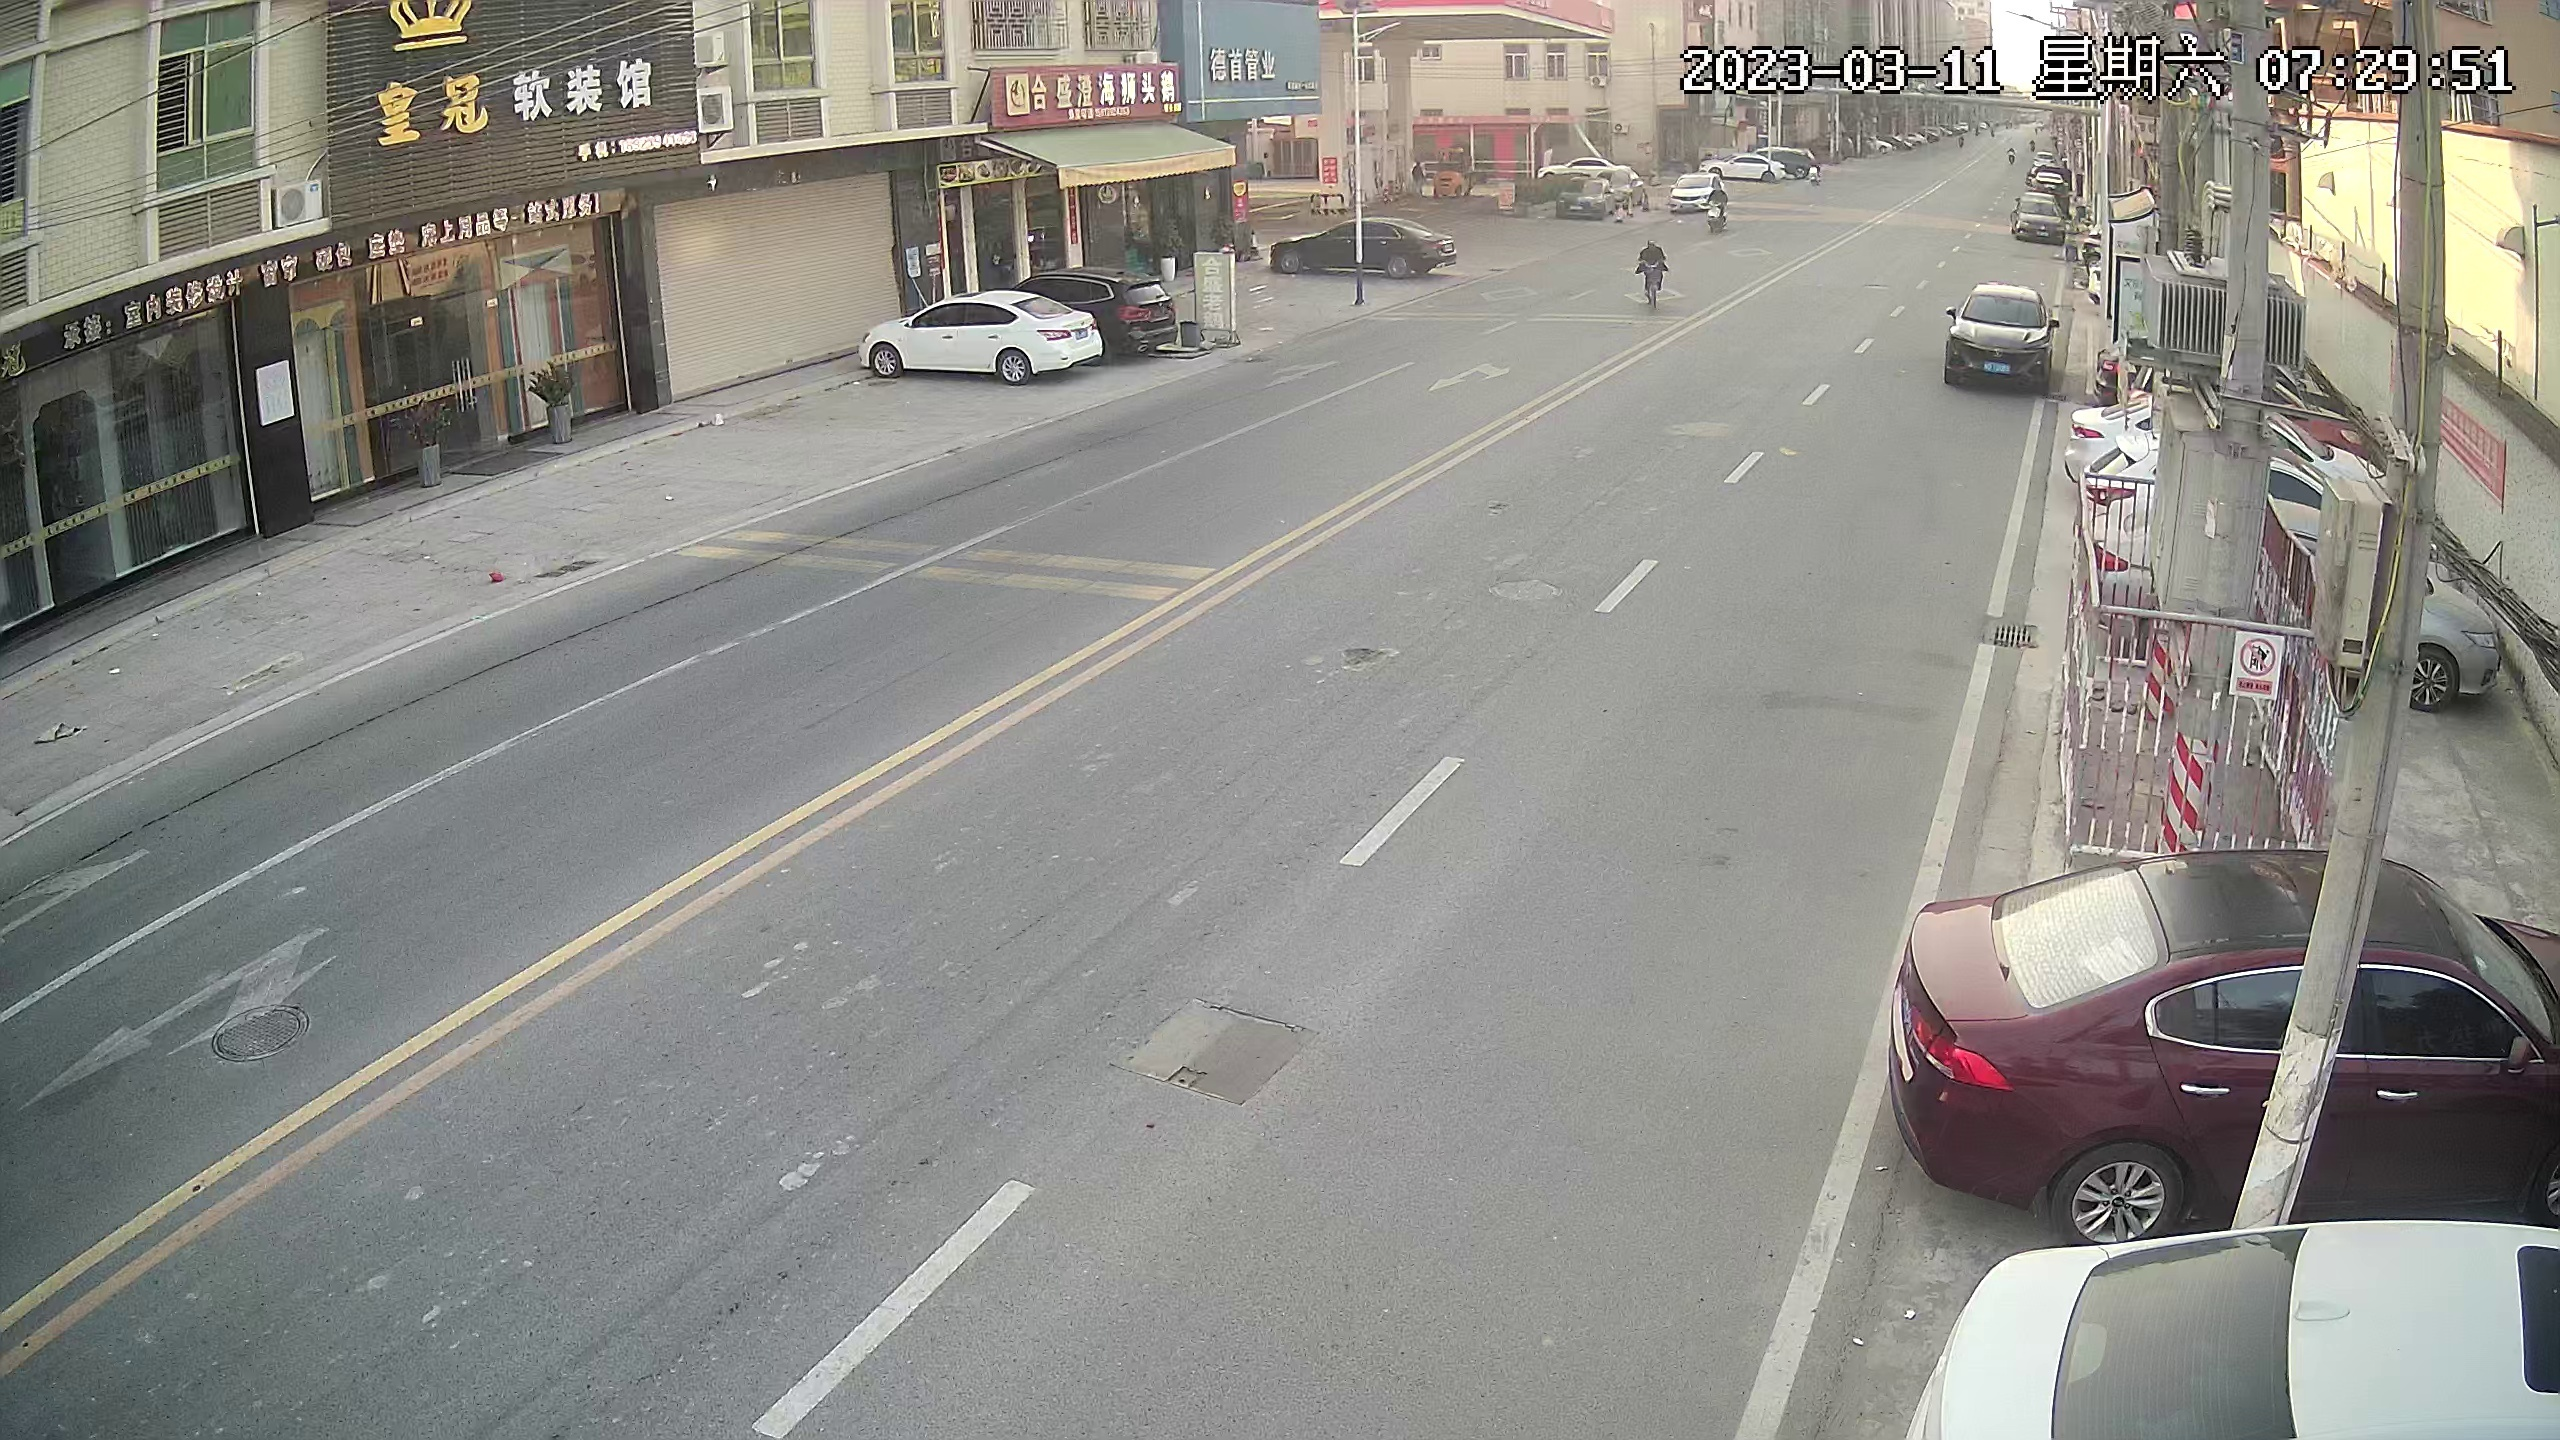bicycle: (1632, 237, 1674, 309)
motorcycle: (1705, 176, 1727, 229)
sedan: (1888, 818, 2553, 1190), (1932, 1220, 2549, 1440), (2091, 526, 2497, 695), (2091, 440, 2396, 540), (2069, 401, 2347, 468), (863, 297, 1095, 375), (1943, 278, 2057, 394), (1282, 220, 1459, 281), (1714, 144, 1786, 185), (1563, 174, 1614, 222), (2017, 195, 2062, 243), (1672, 172, 1700, 213)
suv: (1053, 267, 1180, 353)
